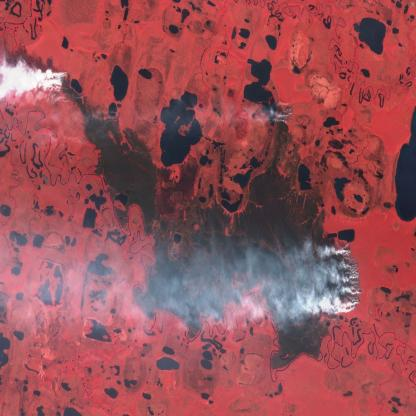fire: (332, 240, 366, 315), (266, 99, 300, 134), (51, 67, 80, 105)
